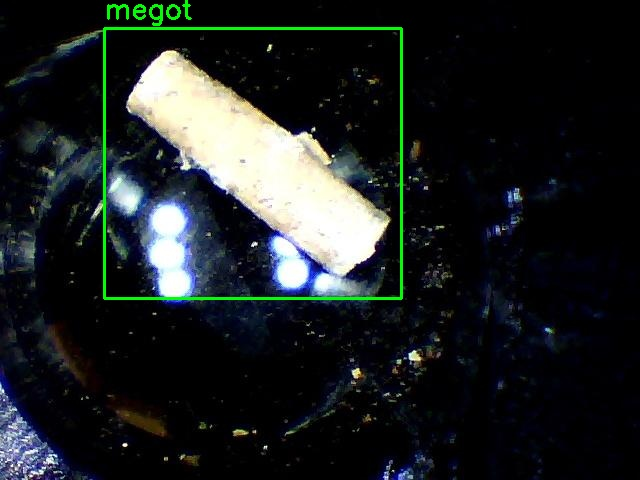megot: (104, 28, 401, 298)
